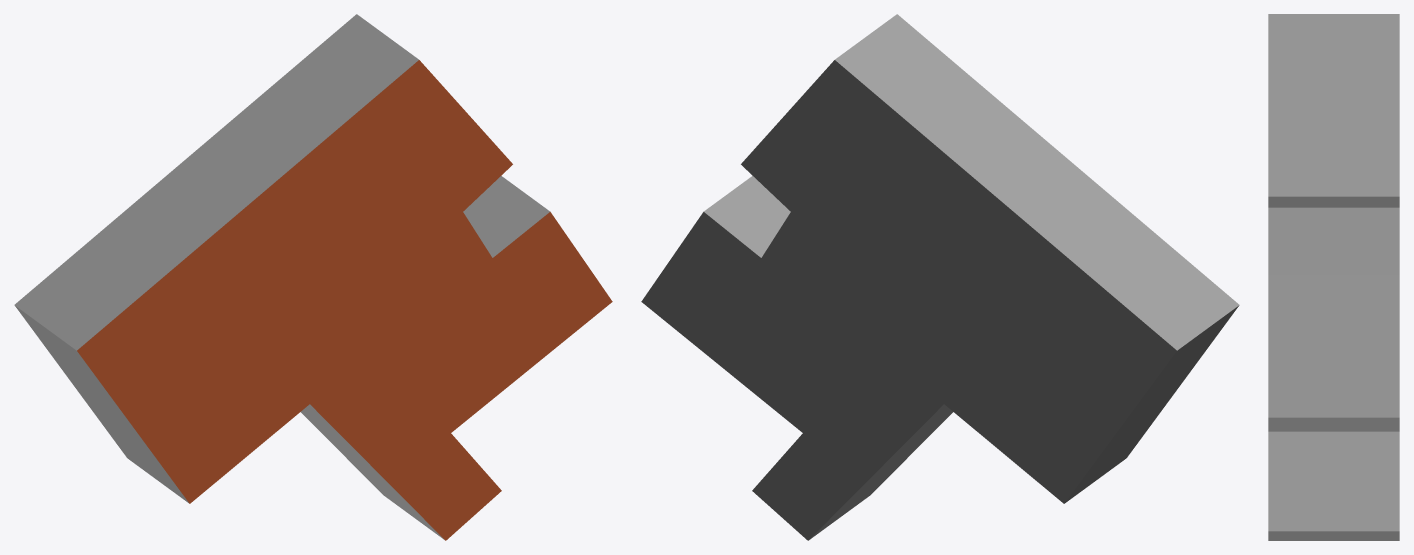
The model's file is construction_6822_assumed_A_Casa_h6m.obj.
3 views of the same model, side by side, from view 1: azimuth 30°, elevation 25°; view 2: azimuth 150°, elevation 25°; view 3: azimuth 270°, elevation 25° (orthographic). The views are drawn at different scales.
Parts seen in each view (by area): view 1: construction_6822_assumed_A_Casa; view 2: construction_6822_assumed_A_Casa; view 3: construction_6822_assumed_A_Casa.
Part boxes in pixels (x1=…): construction_6822_assumed_A_Casa: x1=14, y1=14, x2=612, y2=540; construction_6822_assumed_A_Casa: x1=641, y1=14, x2=1239, y2=540; construction_6822_assumed_A_Casa: x1=1268, y1=14, x2=1399, y2=540.
Bounding box in the file's own units: 29.68 × 25.81 × 6.
